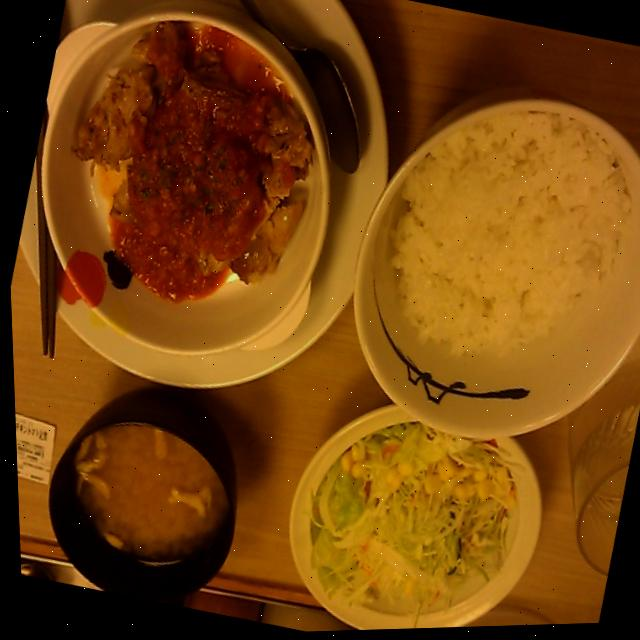汤锅炖物: (22, 371, 265, 620)
米饭主食: (309, 65, 640, 486)
蔬菜料理: (258, 382, 568, 634)
